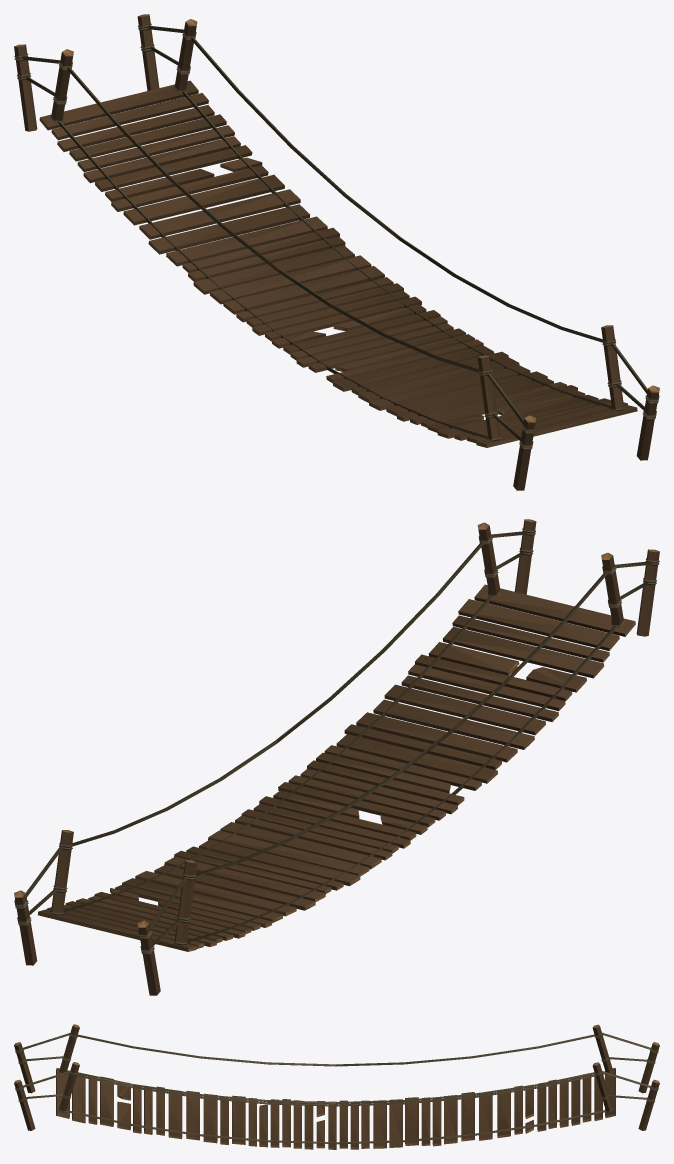
The model's file is Bridge_1_Lod0.fbx.
3 renders of one model, top to bottom at view 1: azimuth 30°, elevation 25°; view 2: azimuth 150°, elevation 25°; view 3: azimuth 270°, elevation 25°, orthographic. The views are drawn at different scales.
Parts seen in each view (by area): view 1: polySurface455; view 2: polySurface455; view 3: polySurface455.
Boxes of the visible parts, x1=… form: polySurface455: x1=14, y1=14, x2=659, y2=490; polySurface455: x1=14, y1=519, x2=659, y2=995; polySurface455: x1=14, y1=1024, x2=659, y2=1149.
Bounding box in the file's own units: 419 × 333 × 2377.
1 material, 1 textured.
